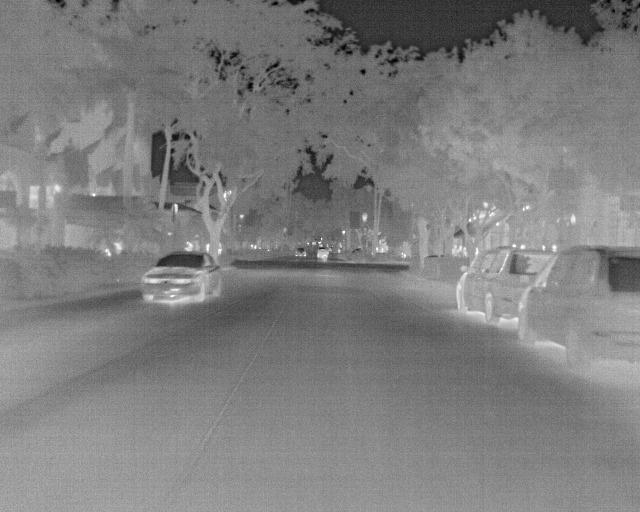car: (513, 242, 638, 376), (459, 245, 558, 325), (138, 250, 224, 303), (294, 244, 309, 258), (316, 248, 331, 262)
